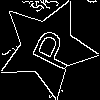P: (22, 23, 78, 73)
